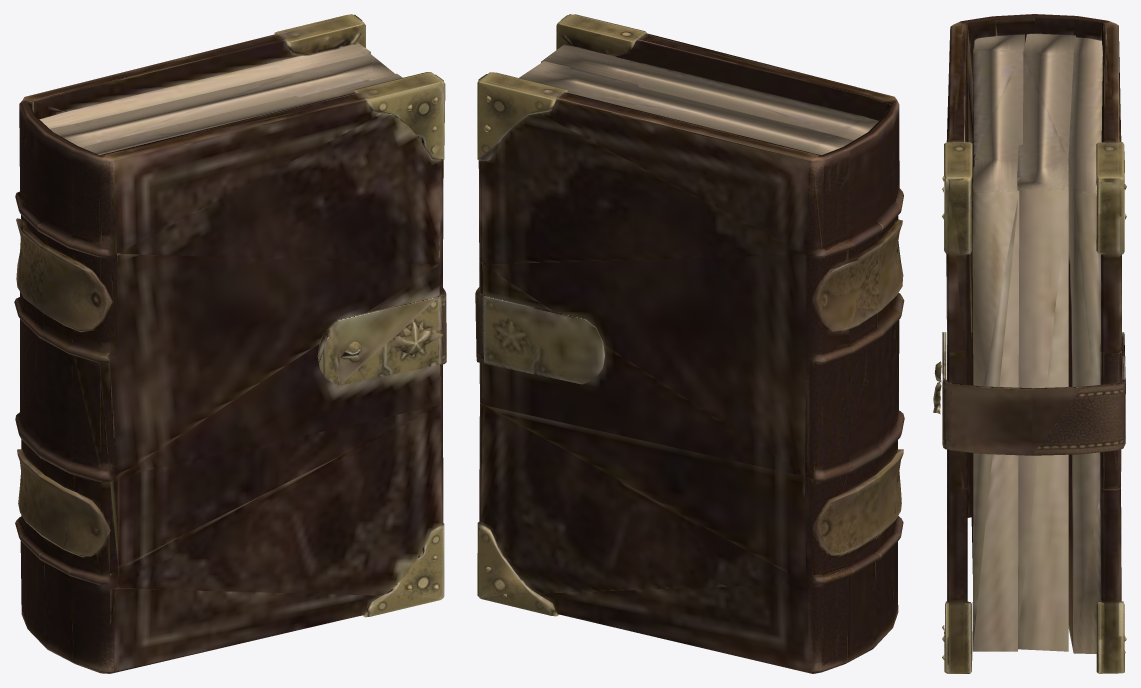
The model's file is prop_book.glb.
3 views of the same model, side by side, from view 1: azimuth 30°, elevation 25°; view 2: azimuth 150°, elevation 25°; view 3: azimuth 270°, elevation 25° (orthographic). The views are drawn at different scales.
Bounding box in the file's own units: 0.759 × 1 × 0.3548.
1 material, 1 textured.
